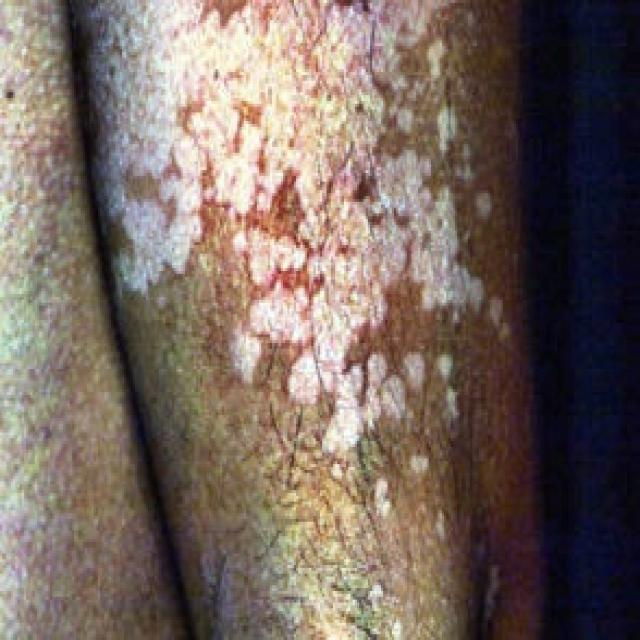Tinea Ringworm Candidiasis and other Fungal Infections: (110, 0, 486, 477)
